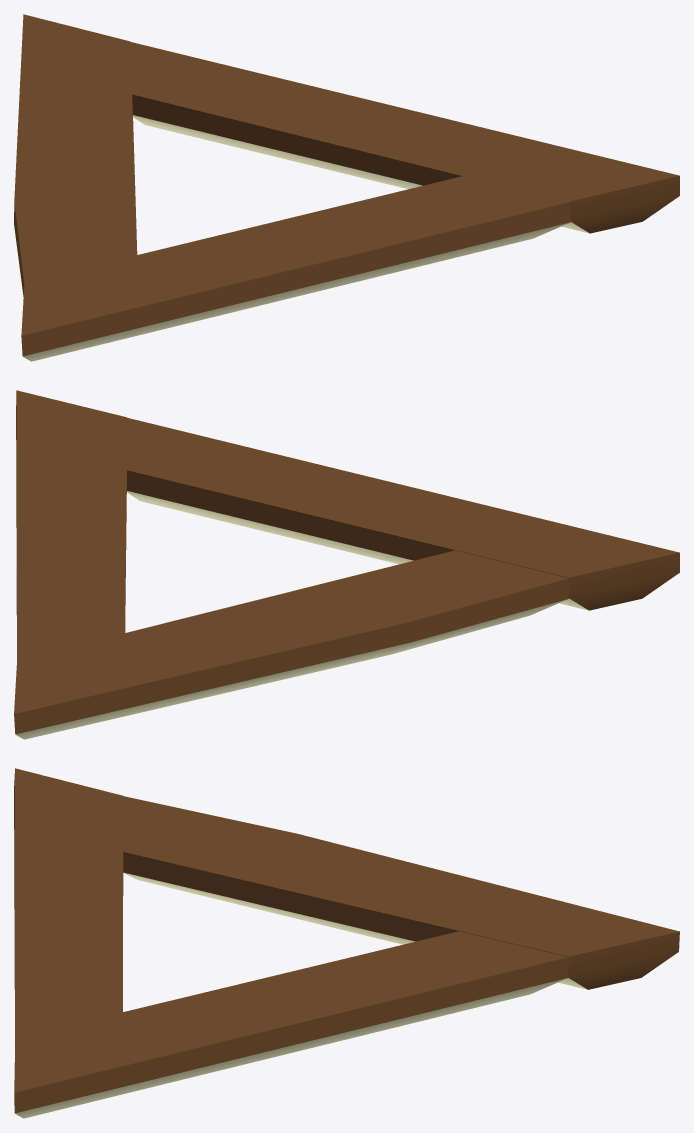
File: willowSplitLogTriFloorSection1.glb
3 renders of one model, top to bottom at view 1: azimuth 30°, elevation 25°; view 2: azimuth 150°, elevation 25°; view 3: azimuth 270°, elevation 25°, orthographic.
Parts seen in each view (by area): view 1: Outside; view 2: Outside; view 3: Outside.
Boxes of the visible parts, x1,y1,x2,y2 form: Outside: (14,14,679,361); Outside: (14,390,679,739); Outside: (14,768,679,1118).
Bounding box in the file's own units: 2.02 × 0.1233 × 1.75.
